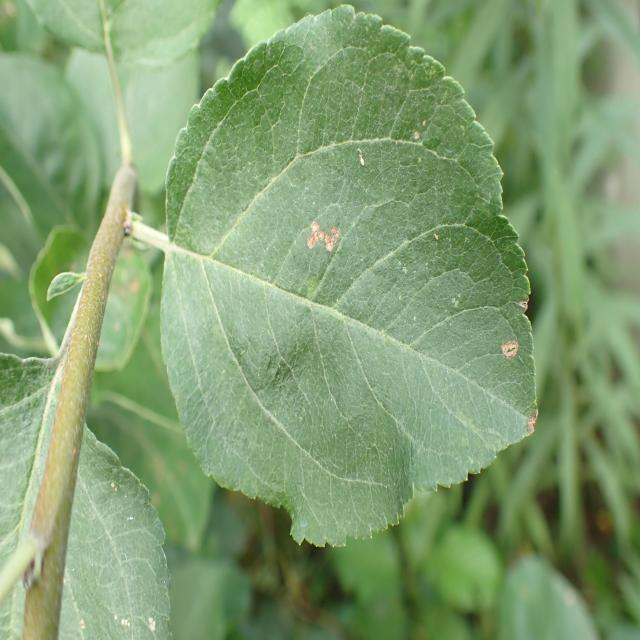frog-eye-leaf-spot: (159, 2, 538, 549)
